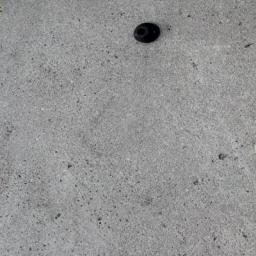FOD: (133, 21, 165, 46)
